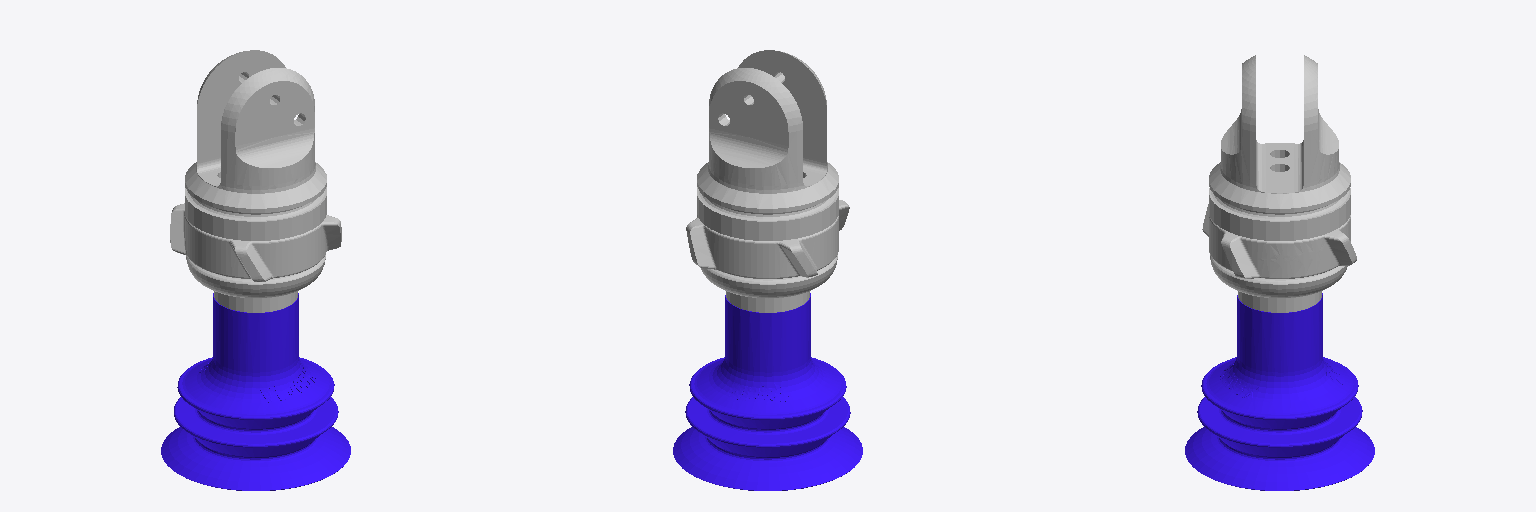
The model's file is suction_cup_link1.obj.
The picture shows the model from 3 angles: view 1: azimuth 30°, elevation 25°; view 2: azimuth 150°, elevation 25°; view 3: azimuth 270°, elevation 25°; orthographic projection.
Parts seen in each view (by area): view 1: link1_Material, link1.001_material1.001; view 2: link1_Material, link1.001_material1.001; view 3: link1.001_material1.001, link1_Material.
Part boxes in pixels (x1,y1,x2,y2): link1_Material: (170, 50, 341, 312); link1.001_material1.001: (161, 293, 350, 490); link1_Material: (686, 50, 849, 312); link1.001_material1.001: (673, 293, 862, 490); link1.001_material1.001: (1185, 293, 1374, 490); link1_Material: (1202, 55, 1356, 312).
Size of the model in its own units: 0.04 by 0.0908 by 0.04.